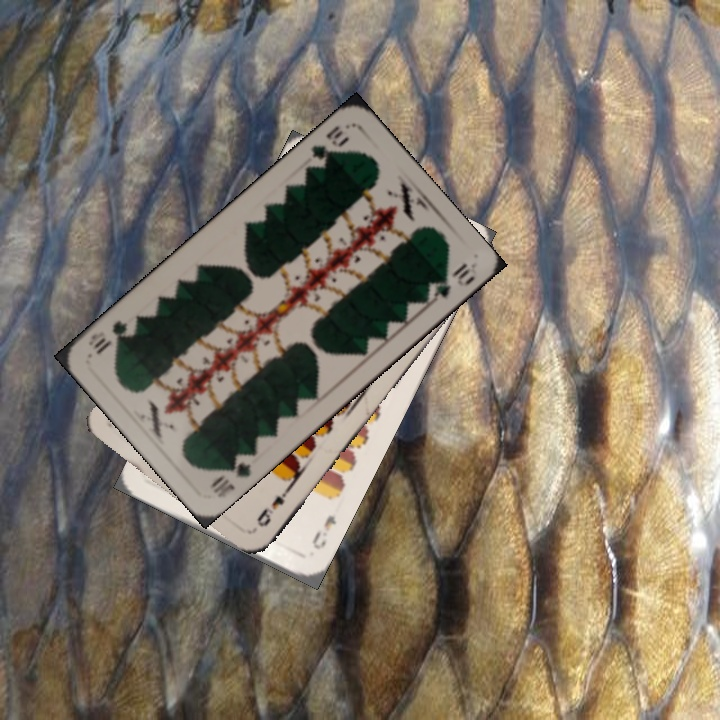E9: (252, 481, 294, 530), (307, 511, 339, 552)
G10: (205, 449, 254, 501), (307, 121, 352, 165)
